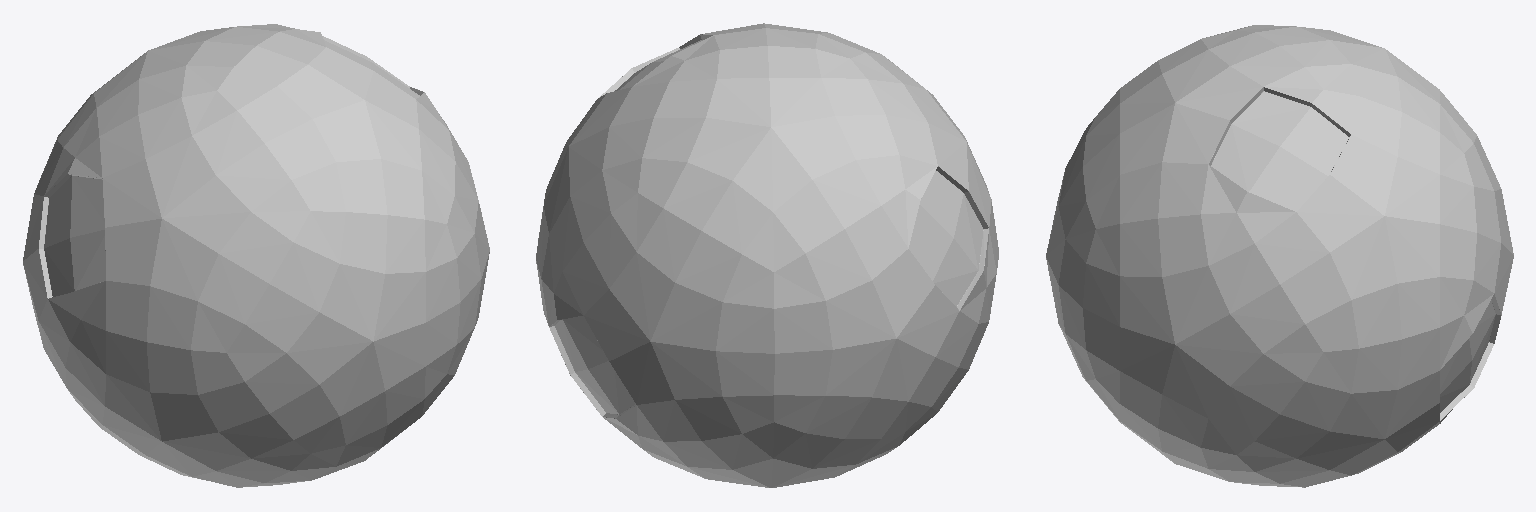
File: Moon.obj
The picture shows the model from 3 angles: view 1: azimuth 30°, elevation 25°; view 2: azimuth 150°, elevation 25°; view 3: azimuth 270°, elevation 25°; orthographic projection.
Parts seen in each view (by area): view 1: Moon; view 2: Moon; view 3: Moon.
Part boxes in pixels (bbox=[...]): Moon: bbox=[23, 24, 489, 487]; Moon: bbox=[536, 23, 998, 487]; Moon: bbox=[1046, 25, 1513, 487].
Size of the model in its own units: 15.54 by 15.54 by 15.69.